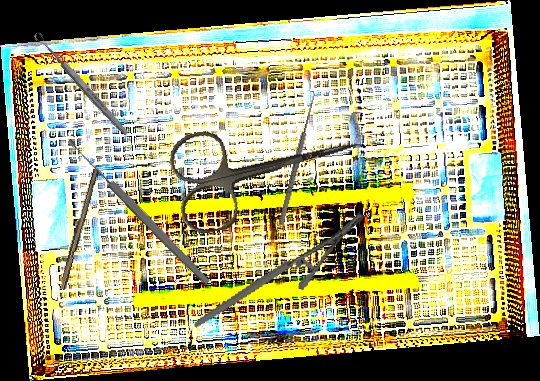Hook Surgical: (272, 89, 319, 226)
Iris Scissors: (164, 97, 374, 238)
Needle Holder: (176, 209, 382, 329)
Scalpel Handle: (57, 167, 100, 291)
Surgical Spoon: (65, 136, 212, 287), (32, 30, 131, 138)
